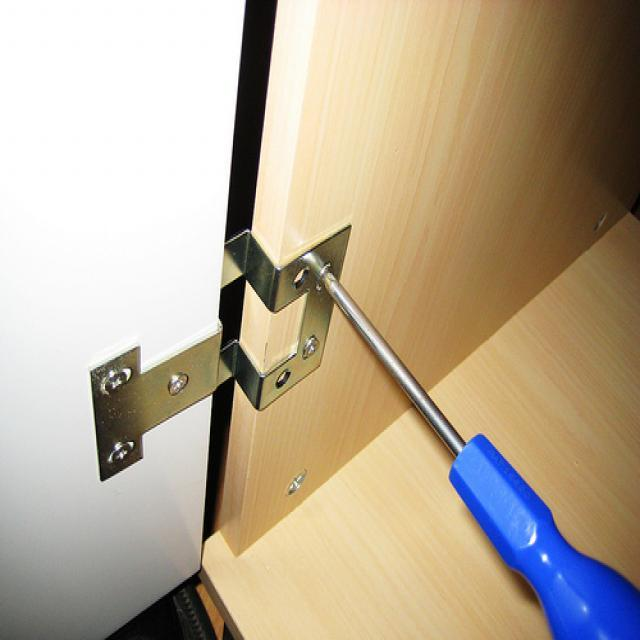screwdriver: (297, 252, 640, 640)
